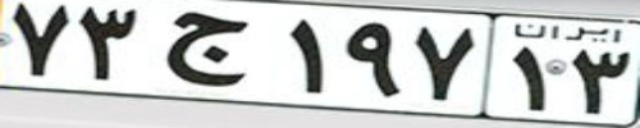1: (289, 18, 329, 94), (507, 45, 550, 112)
3: (79, 7, 138, 79), (569, 50, 630, 114)
7: (415, 26, 475, 100), (11, 3, 71, 76)
9: (344, 21, 401, 96)
jim: (168, 10, 247, 87)
